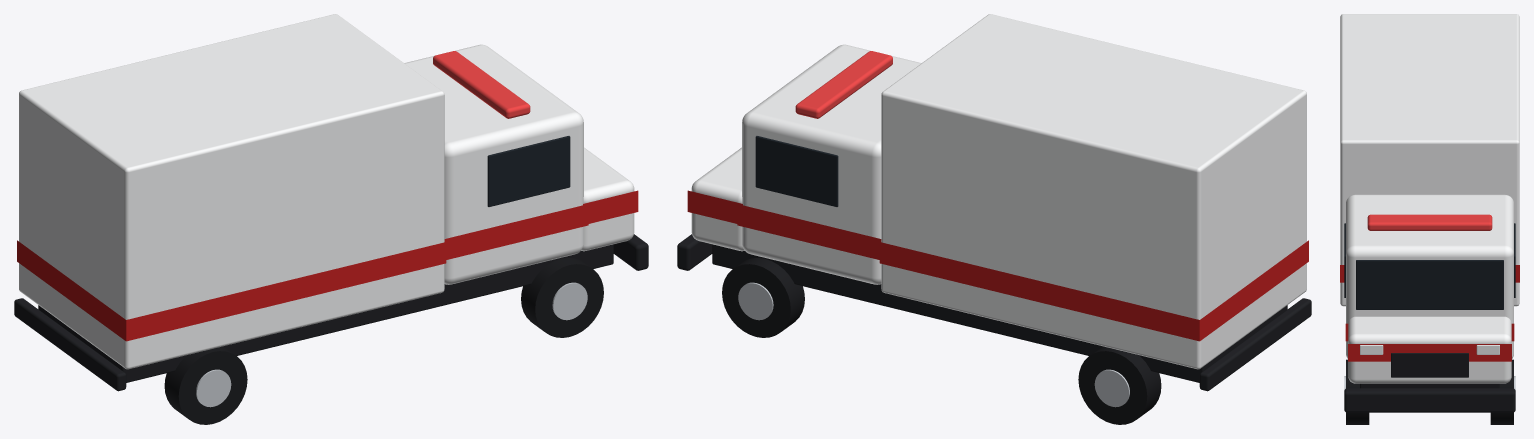
Rendered from ambulance.glb.
3 renders of one model, left to right at view 1: azimuth 30°, elevation 25°; view 2: azimuth 150°, elevation 25°; view 3: azimuth 270°, elevation 25°, orthographic. The views are drawn at different scales.
Parts seen in each view (by area): view 1: Module, Cab, Stripe, Tyres, Chassis, Windows, Trim, Hood, Lightbar, Hubs; view 2: Module, Cab, Stripe, Tyres, Chassis, Windows, Trim, Hood, Lightbar, Hubs; view 3: Module, Cab, Windows, Hood, Trim, Lightbar, Stripe, Tyres, Chassis, Lights.
Boxes of the visible parts, <box> form: Module: <box>19,14,444,369</box>; Cab: <box>404,44,583,284</box>; Stripe: <box>17,190,638,341</box>; Tyres: <box>164,258,603,424</box>; Chassis: <box>38,244,613,382</box>; Windows: <box>487,136,570,206</box>; Trim: <box>14,234,648,391</box>; Hood: <box>581,147,634,251</box>; Lightbar: <box>433,51,530,118</box>; Hubs: <box>196,282,587,407</box>; Module: <box>881,14,1306,369</box>; Cab: <box>742,44,921,284</box>; Stripe: <box>687,190,1308,341</box>; Tyres: <box>722,258,1161,424</box>; Chassis: <box>712,244,1287,382</box>; Windows: <box>755,136,838,206</box>; Trim: <box>677,234,1311,391</box>; Hood: <box>691,147,744,251</box>; Lightbar: <box>795,51,892,118</box>; Hubs: <box>738,282,1129,407</box>; Module: <box>1340,14,1519,306</box>; Cab: <box>1346,194,1513,358</box>; Windows: <box>1344,223,1515,309</box>; Hood: <box>1348,316,1511,383</box>; Trim: <box>1344,353,1515,412</box>; Lightbar: <box>1367,214,1492,230</box>; Stripe: <box>1340,265,1519,361</box>; Tyres: <box>1346,359,1513,424</box>; Chassis: <box>1360,383,1499,388</box>; Lights: <box>1360,345,1499,354</box>.
Bounding box in the file's own units: 6.5 × 3.25 × 2.31.
